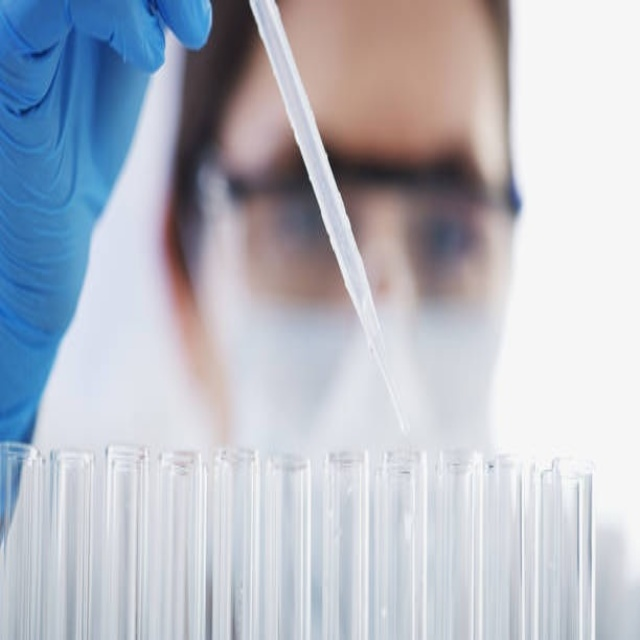Gafas: (193, 141, 522, 298)
Guantes: (0, 0, 215, 524)
Mascara: (206, 200, 513, 473)
